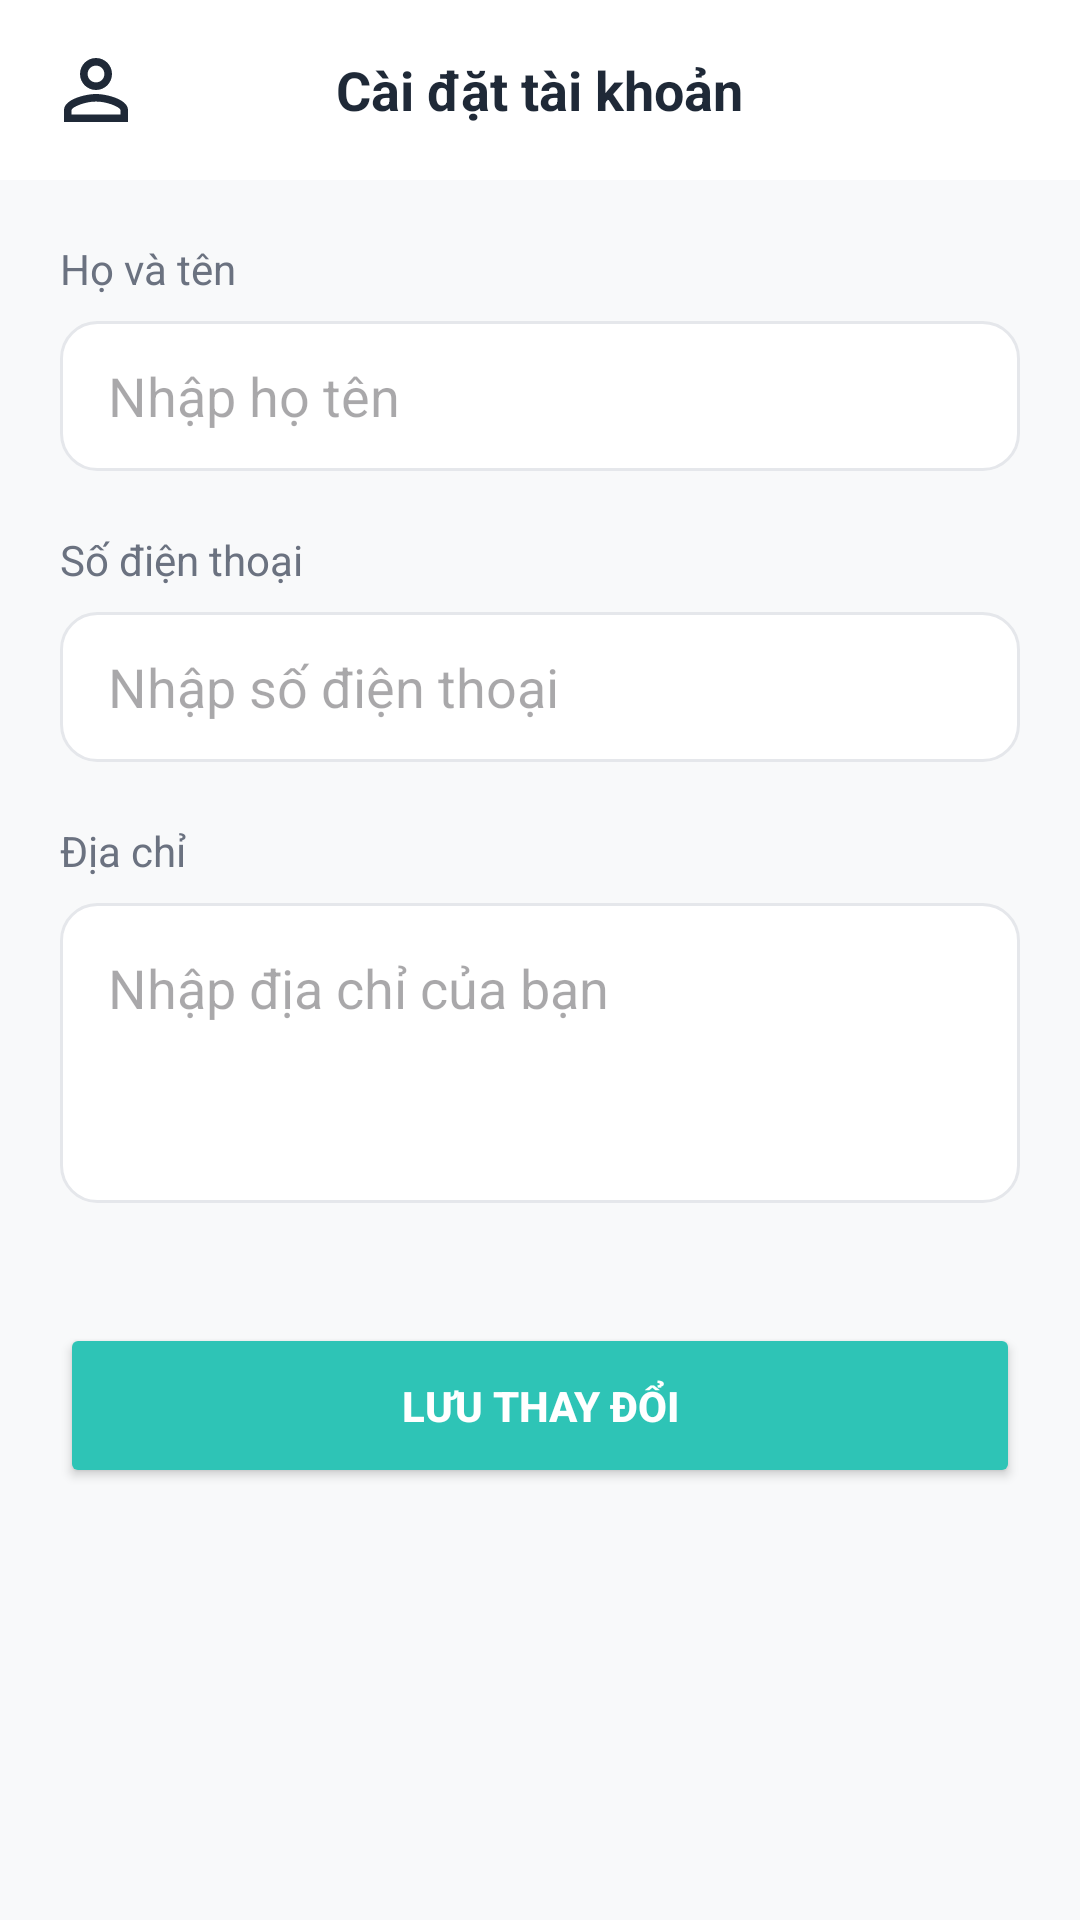

Screen size 1080x1920. Icon name, then its center in pixels as [x,y]:
person: [96,90]
